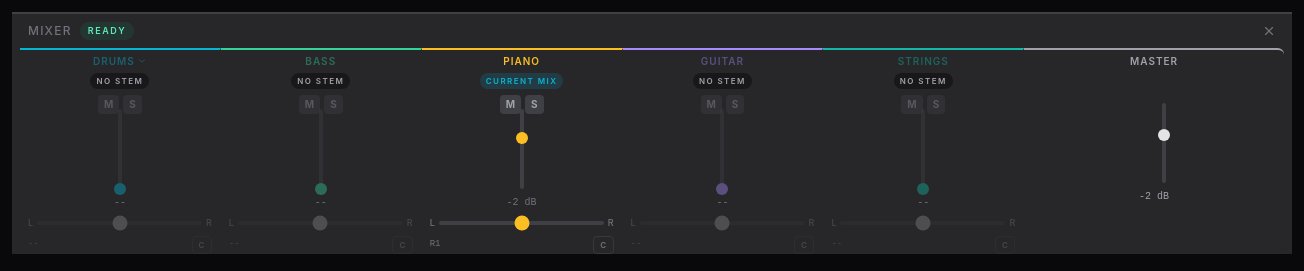
Test: MixerDrawer › surfaces imported off-grid pan truth and lets the operator center it
The width and height of the screenshot is (1304, 271).
Check: the slider named "PIANO pan" holds "1", box [439,221,604,225]
Check: the text named "PIANO pan value" reads "R1", box [430,239,440,249]
Click the button named "Center PIANO pan": (603, 244) [593,236,614,254]
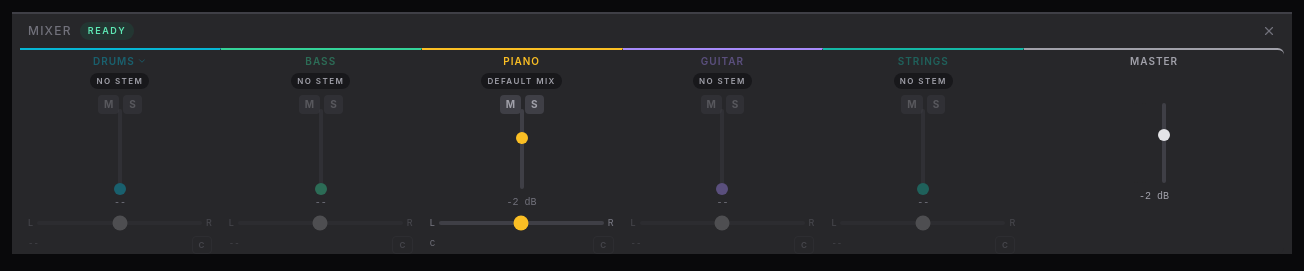
Check: the text named "PIANO pan value" reads "C", box [430,239,435,249]
Check: the button named "Center PIANO pan" is disabled, box [593,236,614,254]
